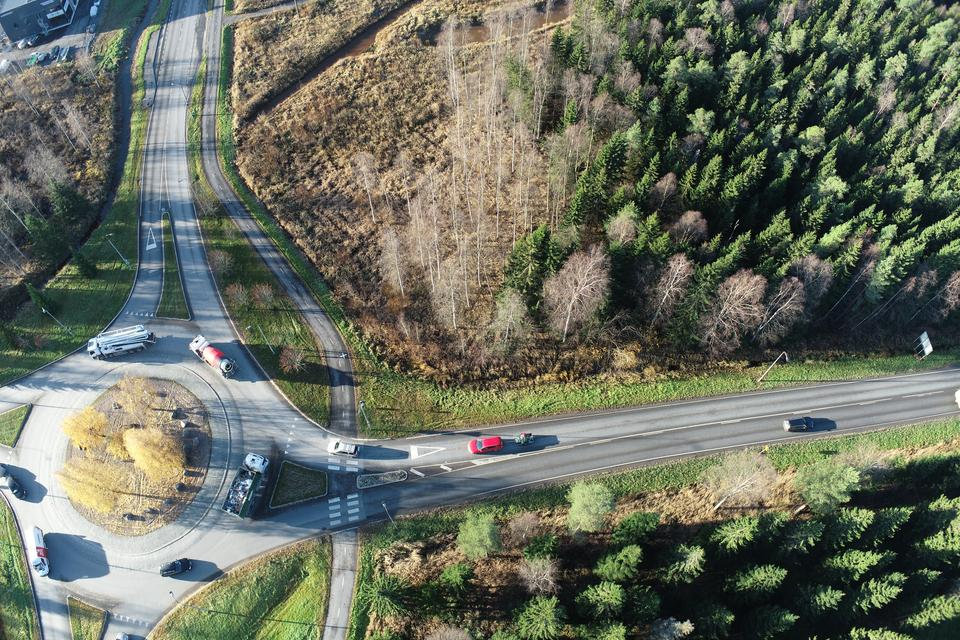intersection: (310, 401, 383, 564), (141, 0, 257, 54)
roundabout: (0, 237, 300, 640)
